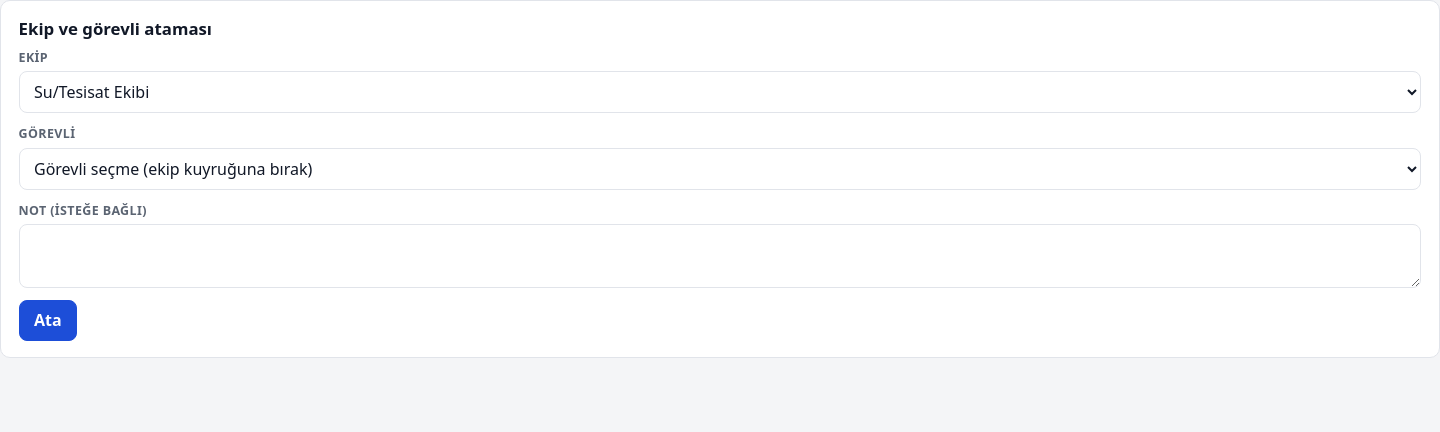
Scenario: AssignPanel › sunucu hatasını (Türkçe mesaj) gösterir ve başarı bildirmez
Click the button "Ata".
click(48, 321)  # box [19,300,77,341]
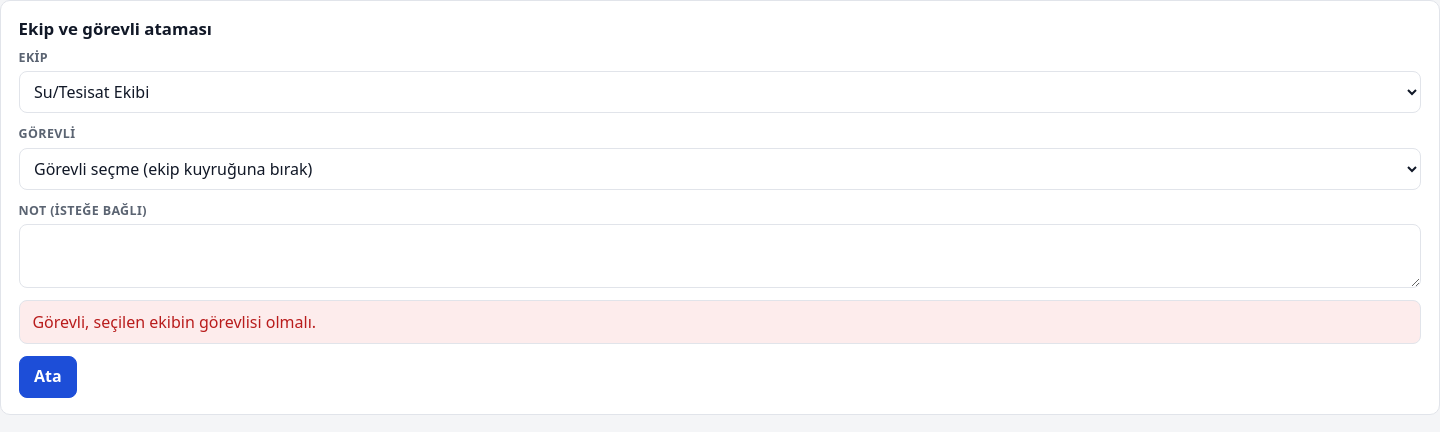
Check: the message reads "Görevli, seçilen ekibin görevlisi olmalı.", box [32,311,316,333]
